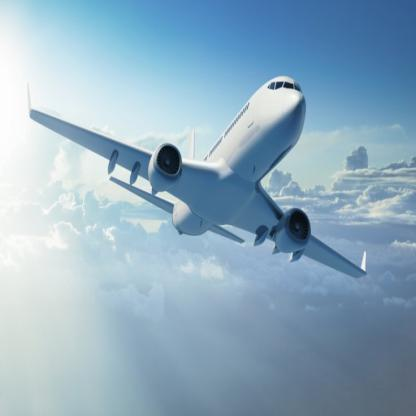CIV_Plane: (22, 71, 369, 284)
